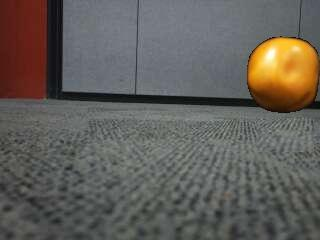Potato: (246, 37, 320, 114)
